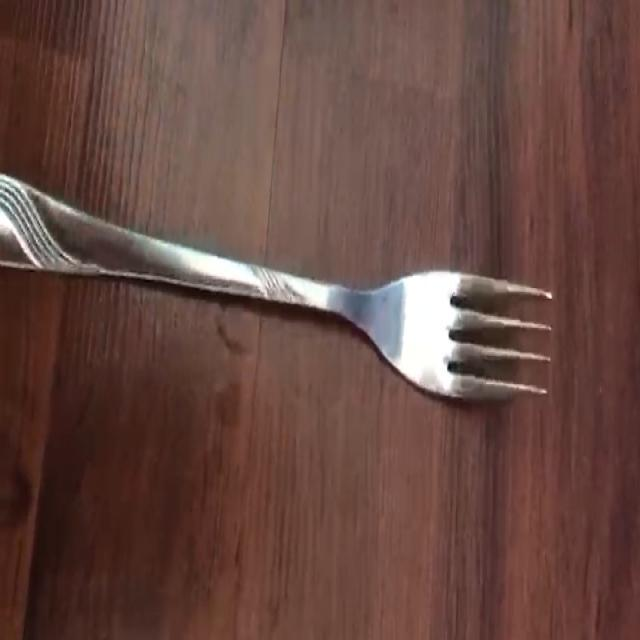spoon: (0, 176, 550, 399)
